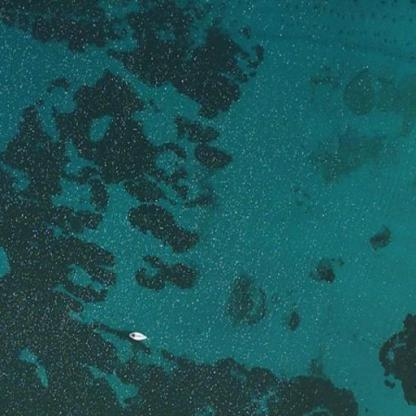ship: (124, 329, 149, 341)
